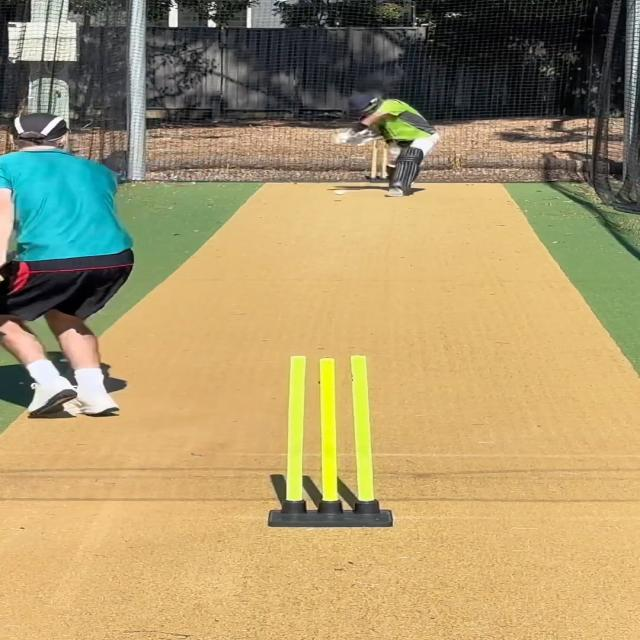ball: (334, 187, 349, 196)
stump: (267, 354, 394, 526)
